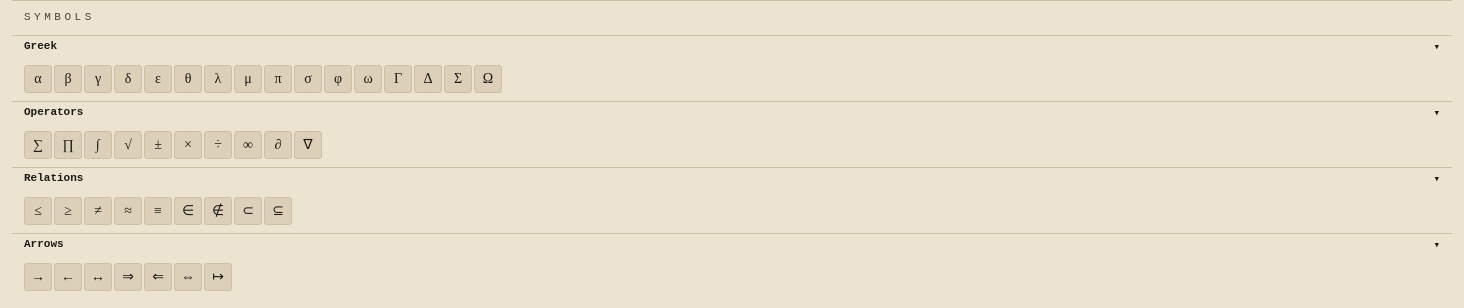
it: SymbolPalette › re-opens a collapsed group on a second click
// Close then re-open.
Click the button "Greek ▾". click: (41, 46)
box: [12,36,1452,57]
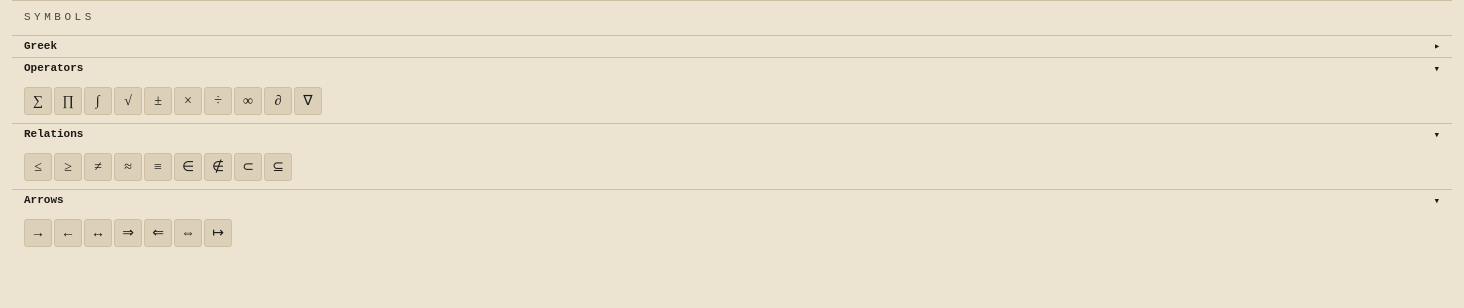
Click the button "Greek ▾". click: (41, 46)
box: [12,36,1452,57]
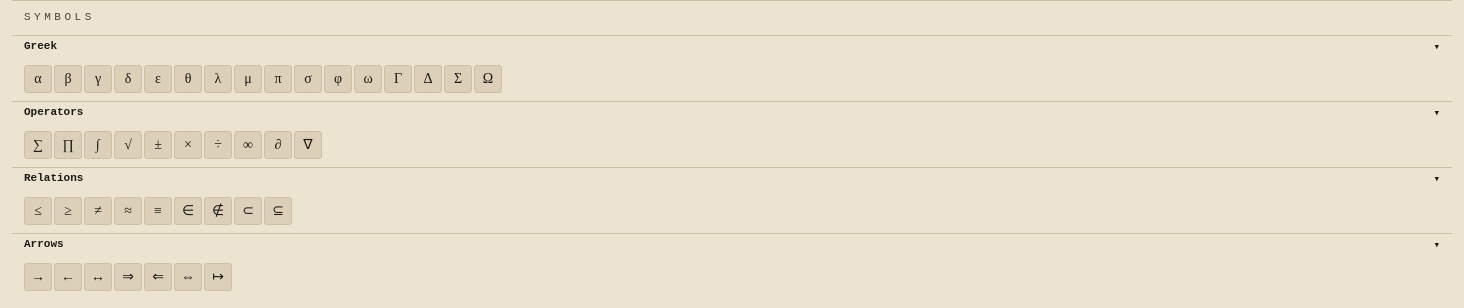
Check: the button titled "\\alpha" is shown, box [24,65,52,93]
